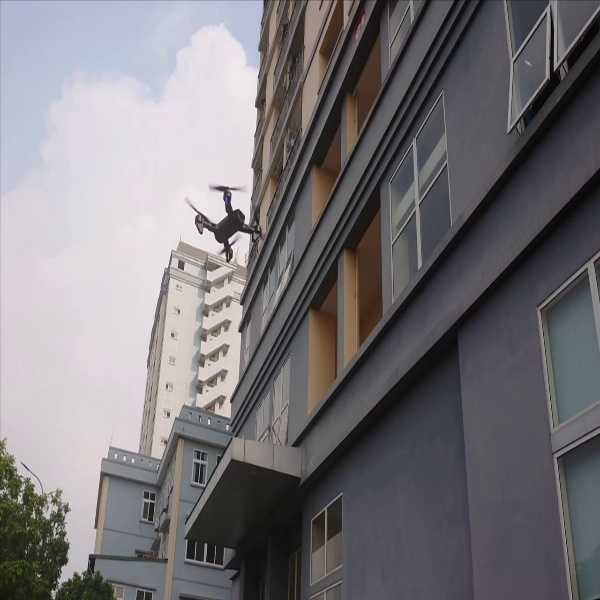drone: (179, 174, 275, 268)
